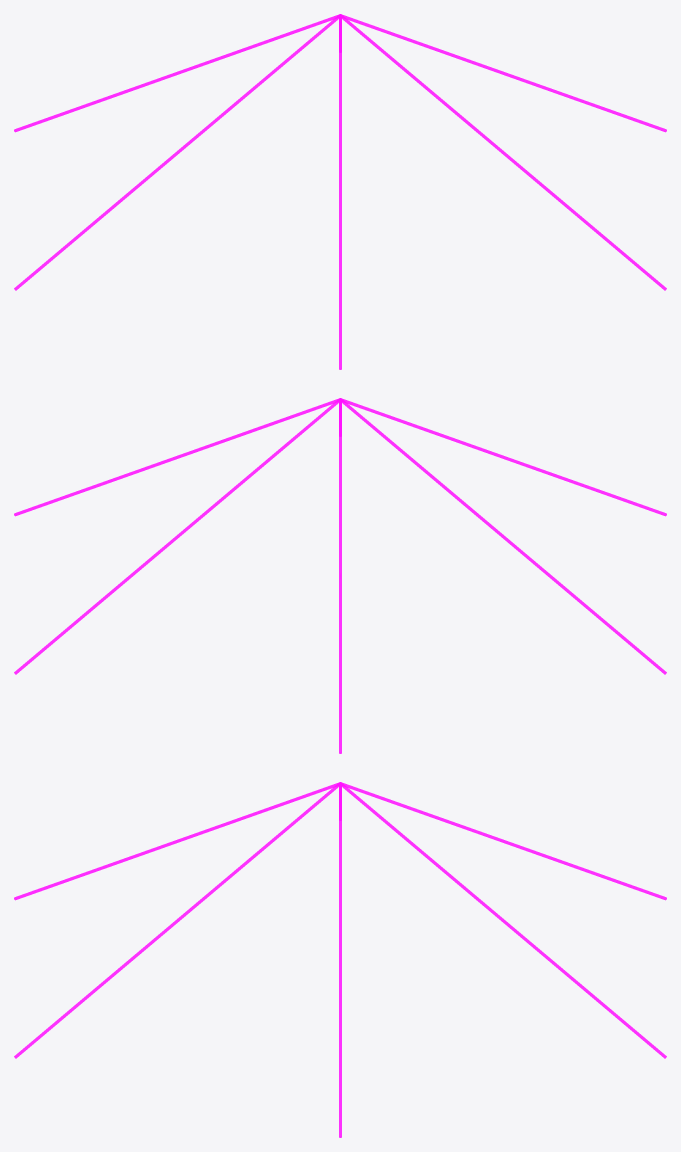
The model's file is Dream3_Six_LaserFocus.glb.
3 views of the same model, one above another, from view 1: azimuth 30°, elevation 25°; view 2: azimuth 150°, elevation 25°; view 3: azimuth 270°, elevation 25° (orthographic).
Parts seen in each view (by area): view 1: Focus_Laser_06, Focus_Laser_04, Focus_Laser_01, Focus_Laser_03, Focus_Laser_05; view 2: Focus_Laser_02, Focus_Laser_04, Focus_Laser_01, Focus_Laser_05, Focus_Laser_03; view 3: Focus_Laser_02, Focus_Laser_06, Focus_Laser_03, Focus_Laser_05, Focus_Laser_01.
Boxes of the visible parts, x1,y1,x2,y2 form: Focus_Laser_06: (340,14,666,290); Focus_Laser_04: (14,14,340,290); Focus_Laser_01: (340,14,666,132); Focus_Laser_03: (14,14,340,132); Focus_Laser_05: (339,14,341,369); Focus_Laser_02: (14,398,340,674); Focus_Laser_04: (340,398,666,674); Focus_Laser_01: (14,398,340,516); Focus_Laser_05: (341,398,666,516); Focus_Laser_03: (339,398,341,753); Focus_Laser_02: (340,782,666,1058); Focus_Laser_06: (14,782,339,1058); Focus_Laser_03: (340,782,666,900); Focus_Laser_05: (14,782,339,900); Focus_Laser_01: (339,782,341,1137).
Bounding box in the file's own units: 14.03 × 4.05 × 12.16.
